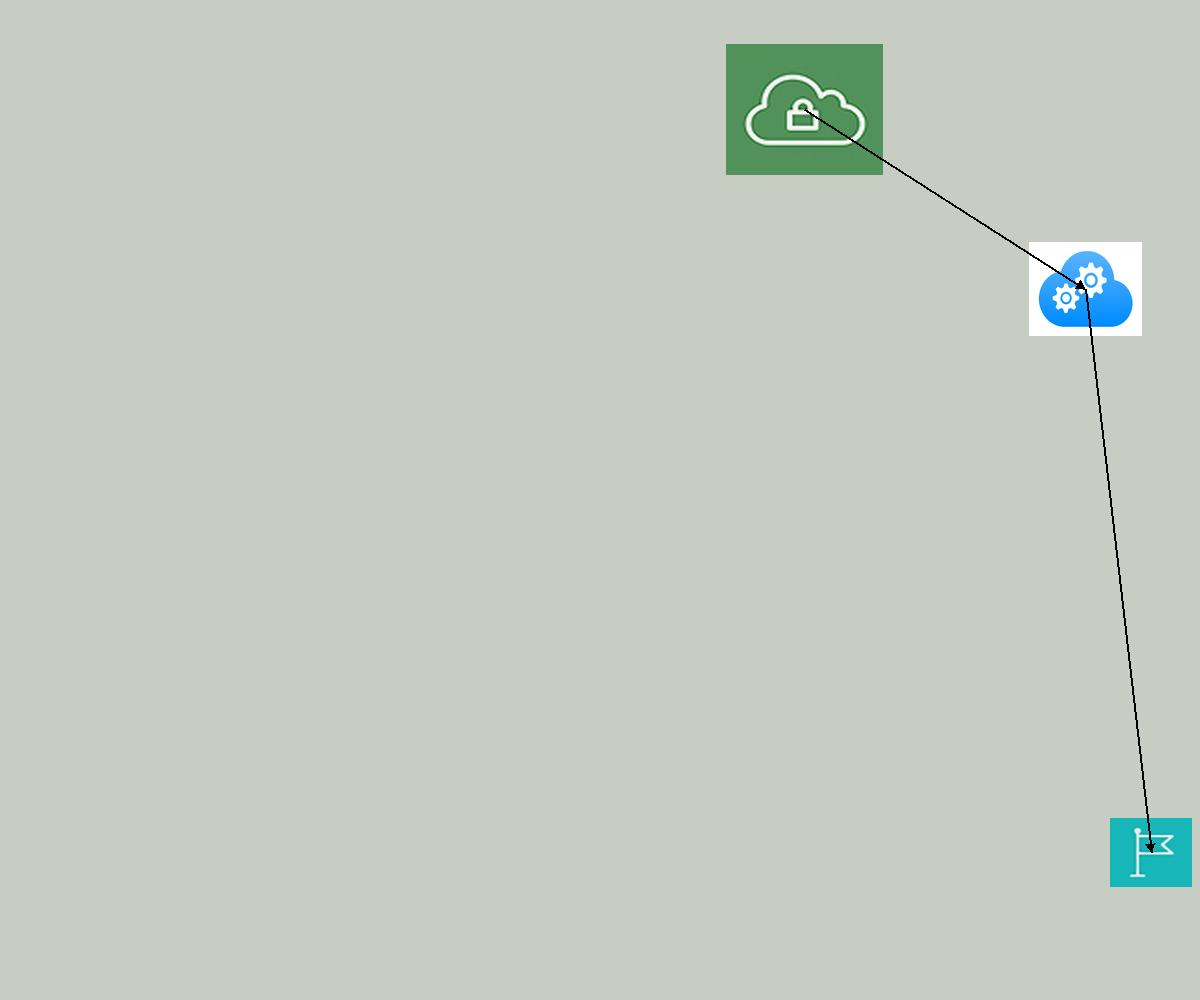AWS-Private_vpc: (726, 44, 883, 175)
AWS-Region: (1110, 818, 1192, 887)
Azure_cloud_services: (1029, 242, 1142, 336)
